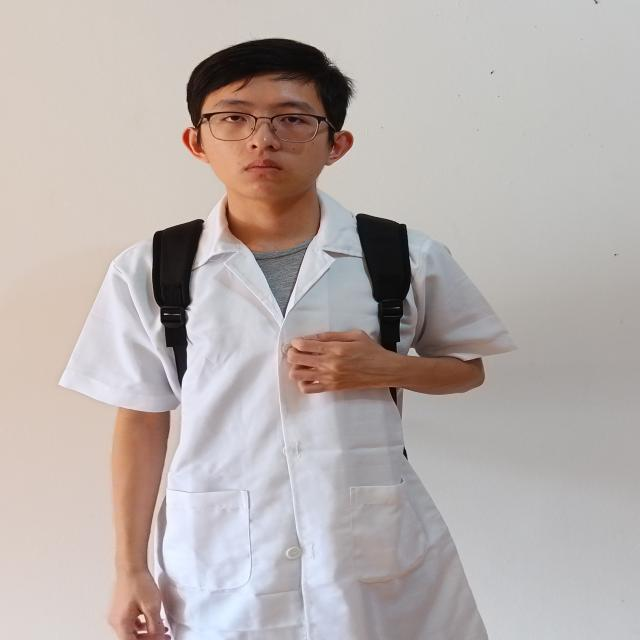person_with_labcoat: (60, 39, 514, 640)
